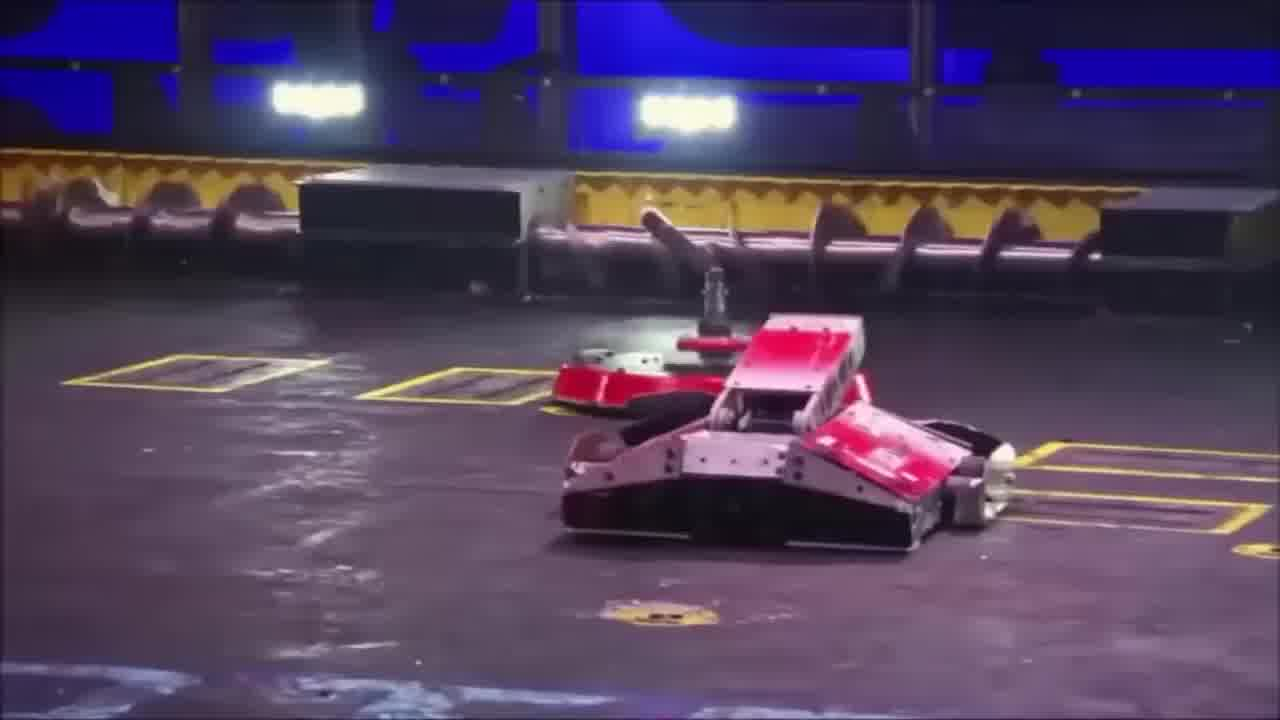combatbot: (557, 349, 1017, 564), (548, 207, 865, 450)
